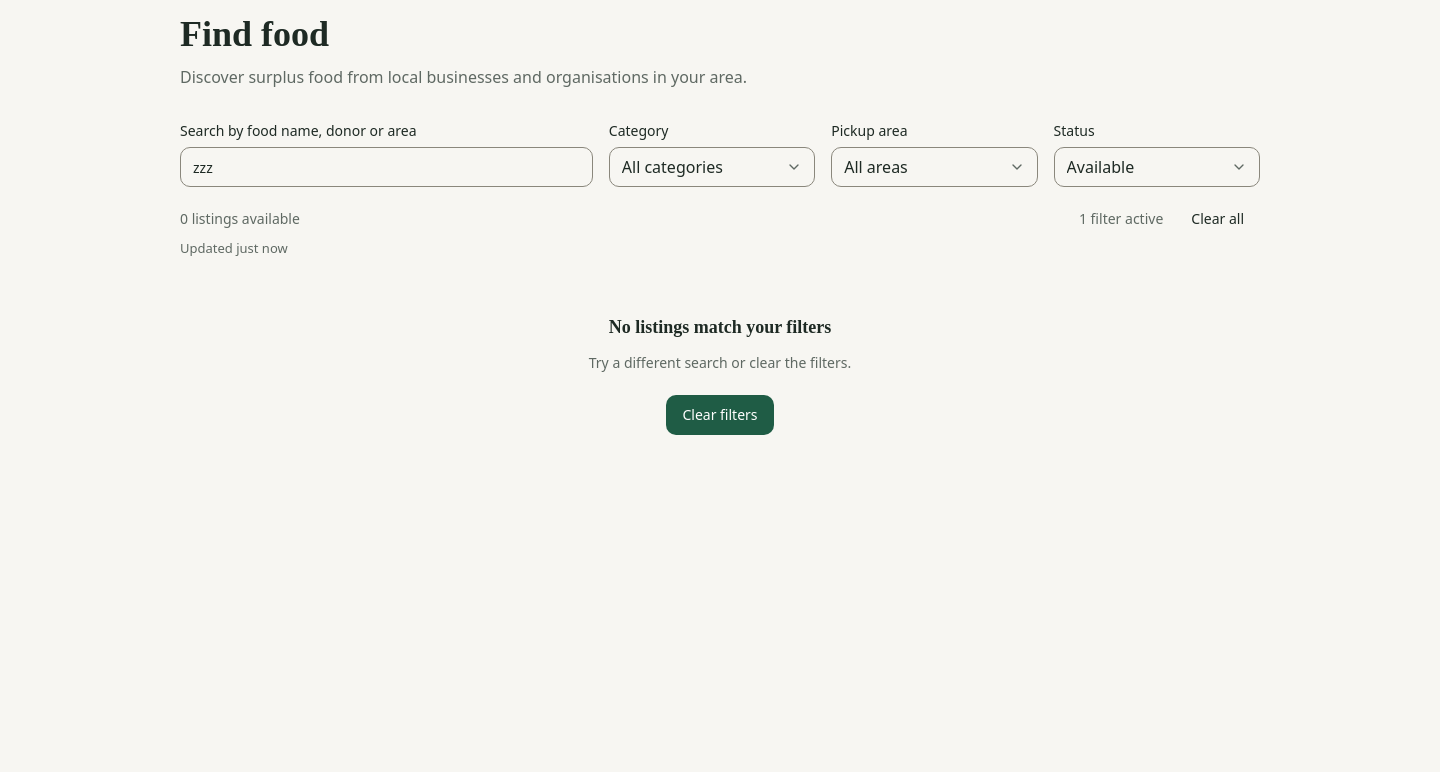
Test case: Find food: filters › offers Clear filters when nothing matches
Check: the heading "No listings match your filters" is shown, box [609,314,831,339]
Click the button "Clear filters" at (720, 415), box [666,395,774,435]
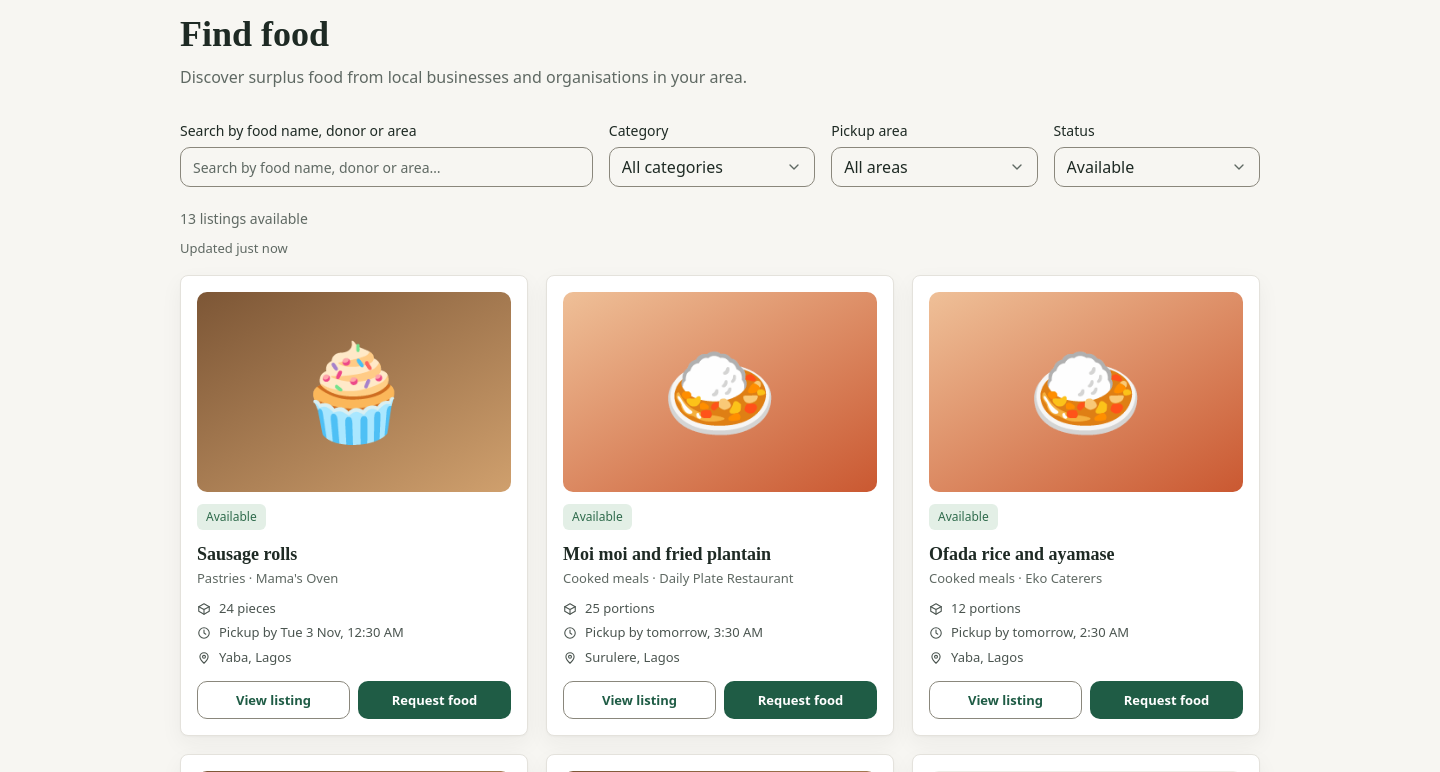
Check: the heading "Sausage rolls" is shown, box [197,544,297,564]
